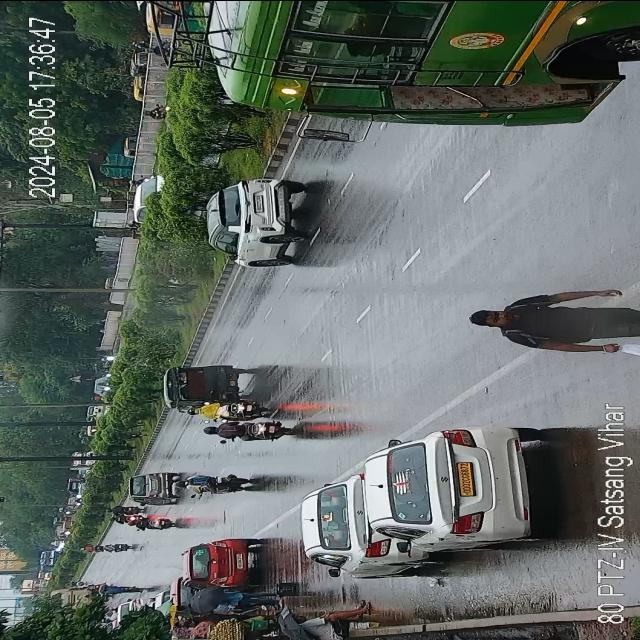2-wheelers: (207, 411, 291, 443), (180, 470, 252, 500), (109, 497, 148, 527), (134, 510, 180, 530), (85, 540, 132, 554)
auto: (170, 354, 242, 412)
bus: (184, 0, 626, 127)
car: (368, 422, 540, 570), (302, 478, 406, 574), (211, 177, 307, 267), (187, 536, 251, 586), (132, 167, 169, 224), (128, 466, 176, 508)
pedestrian: (468, 300, 620, 350), (294, 598, 366, 640), (90, 582, 148, 596)
